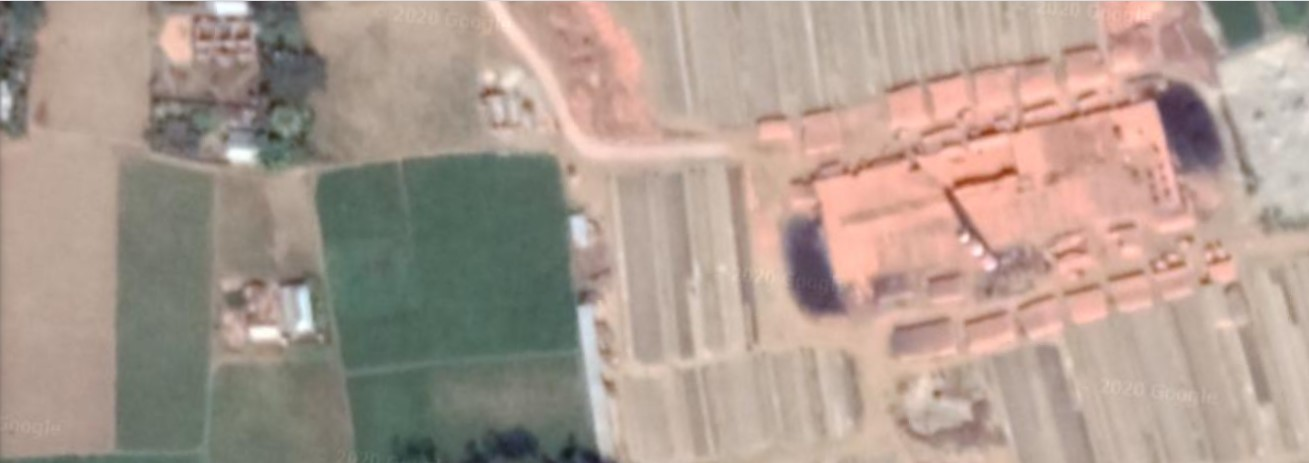kiln: (822, 140, 1193, 298)
